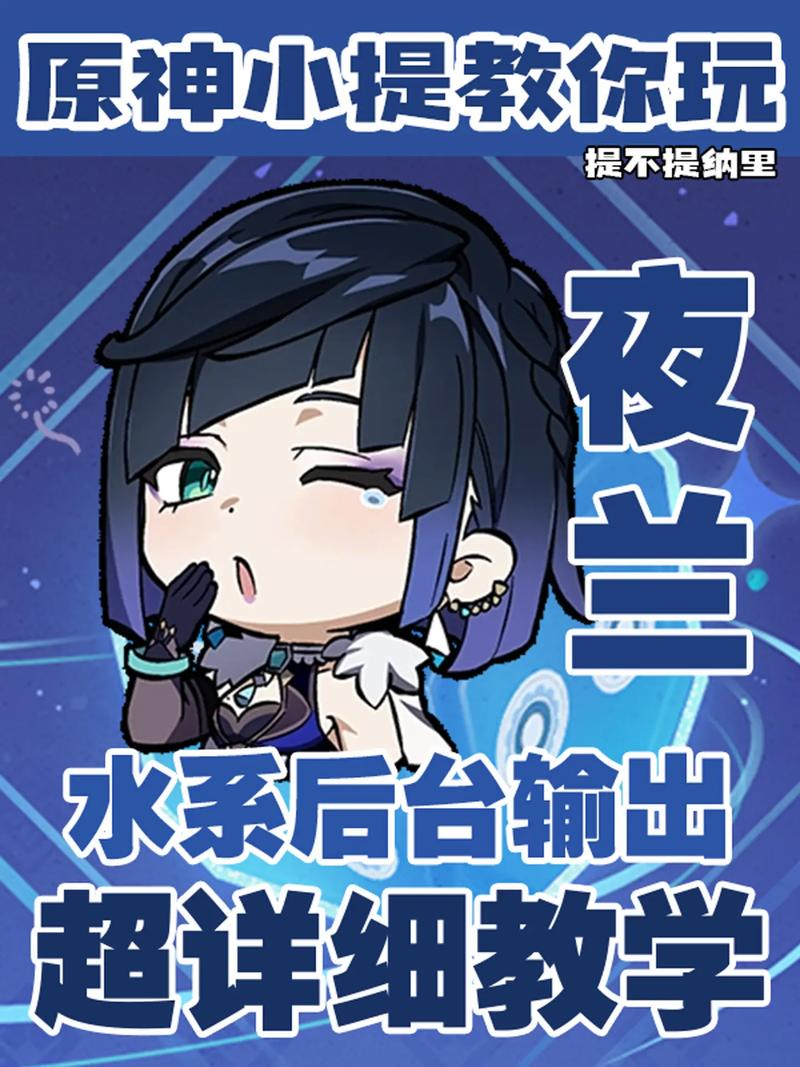夜兰: (92, 177, 574, 752)
